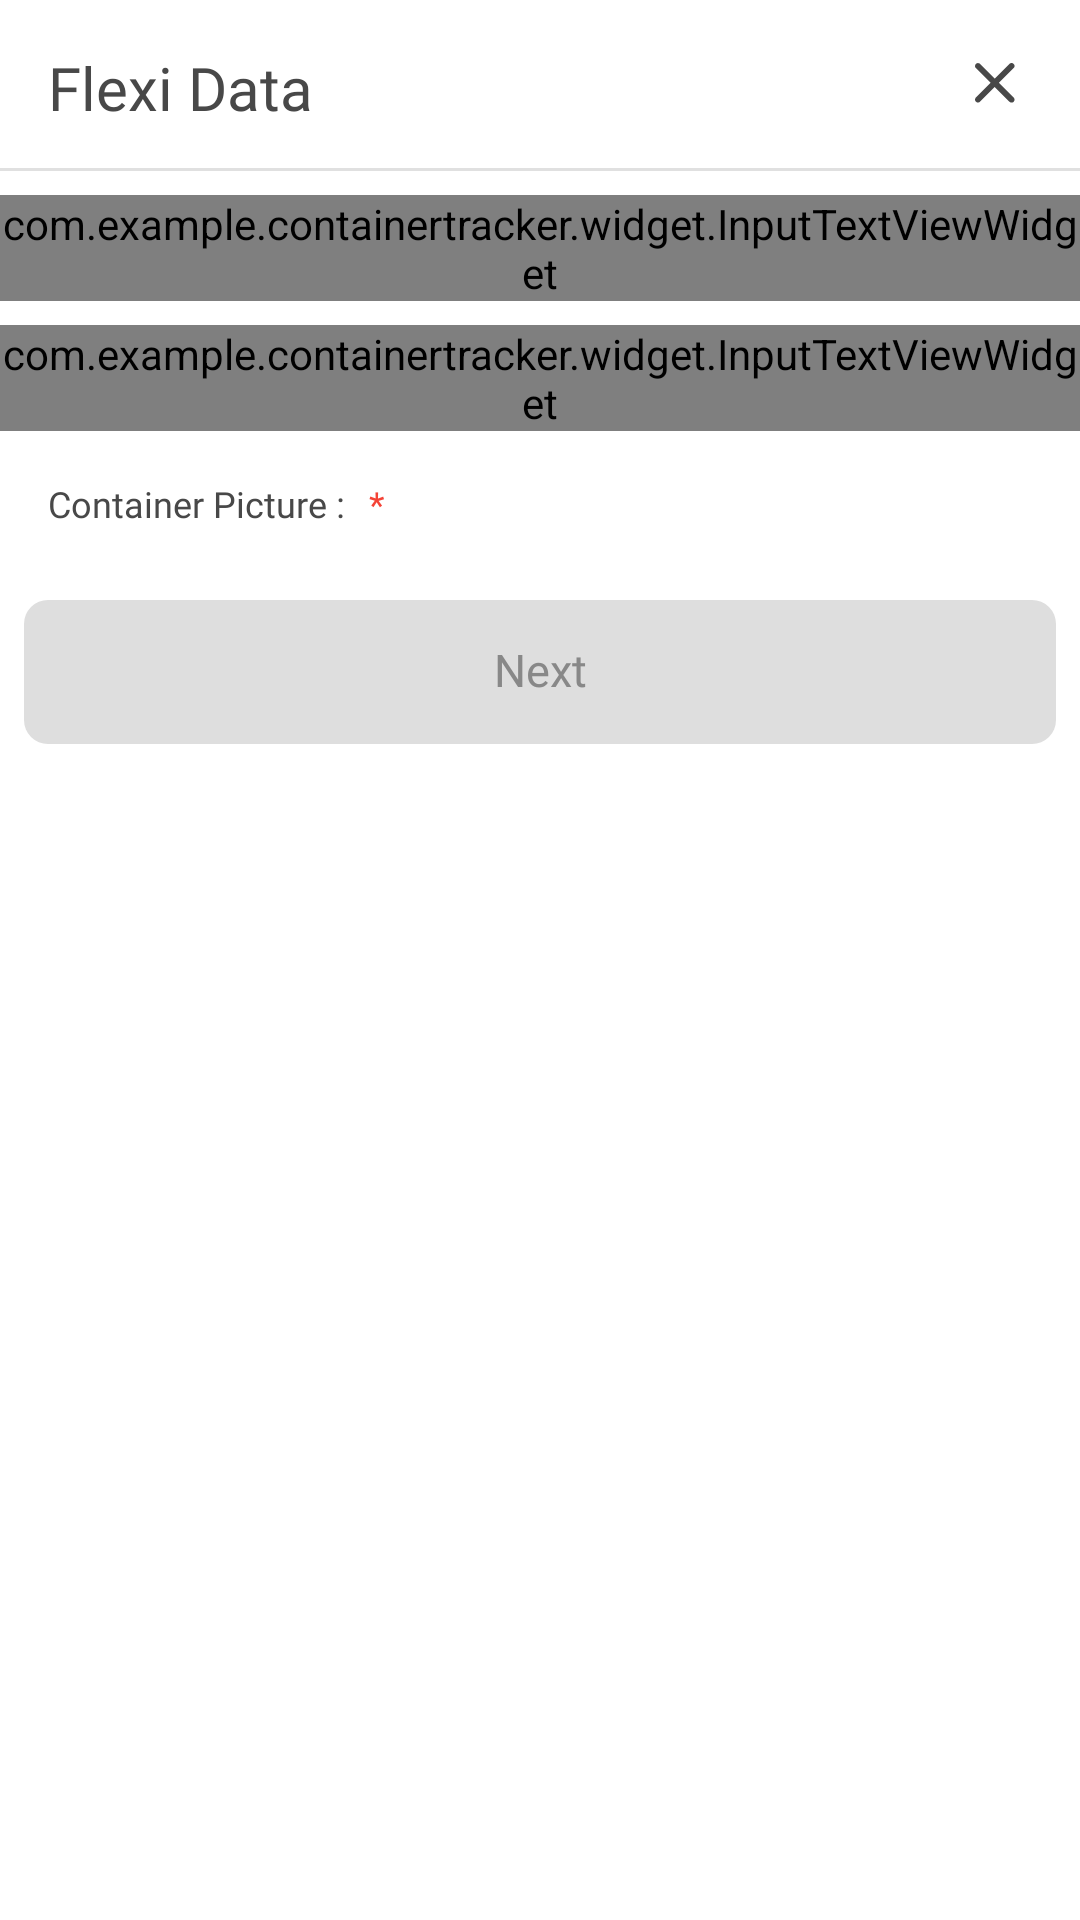

Icon click points for this 1080w x 1920h phone screenshot, format [x,y]:
close: [995,83]
